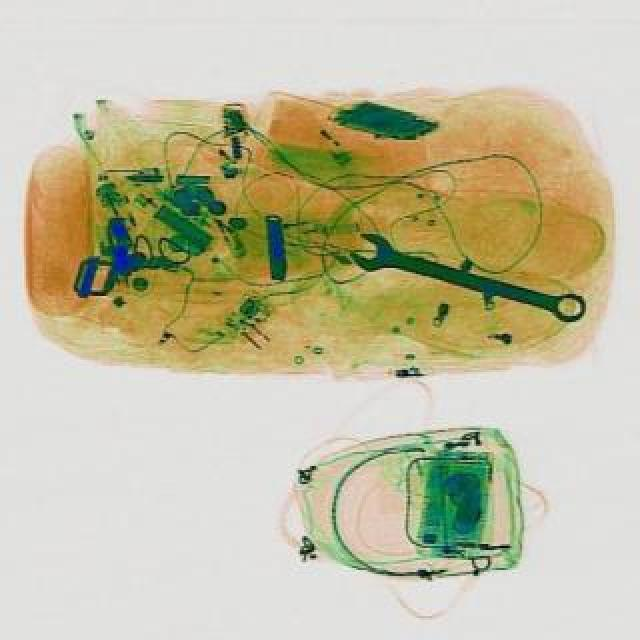scissors: (340, 226, 588, 332)
